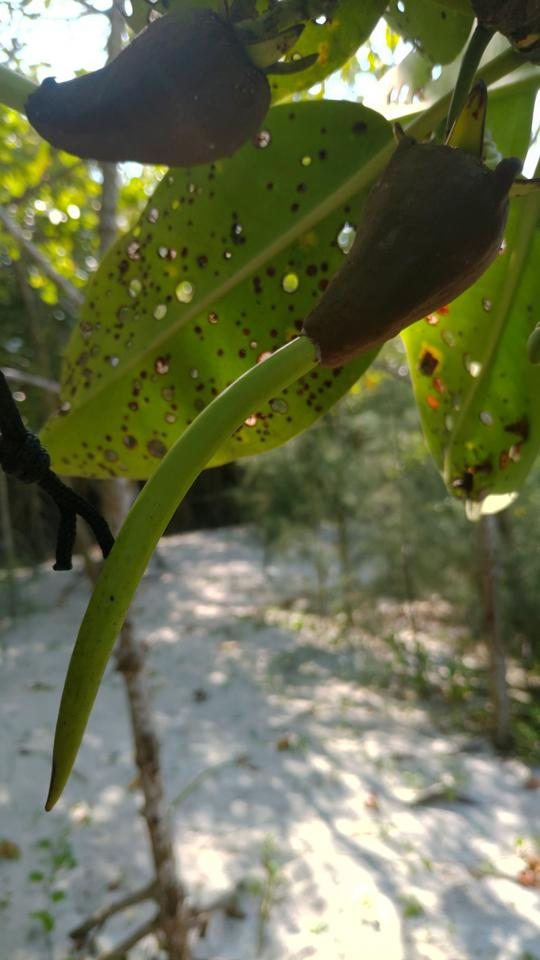mentah: (22, 67, 537, 821)
